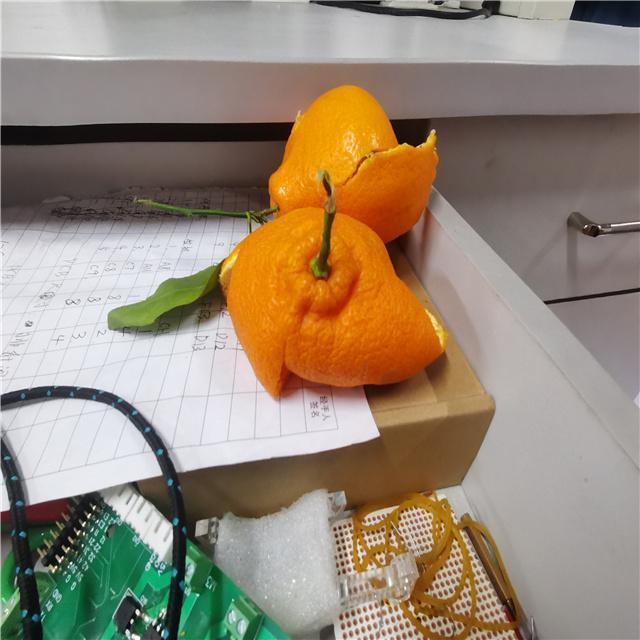orange peel: (215, 205, 452, 402), (263, 84, 446, 249)
